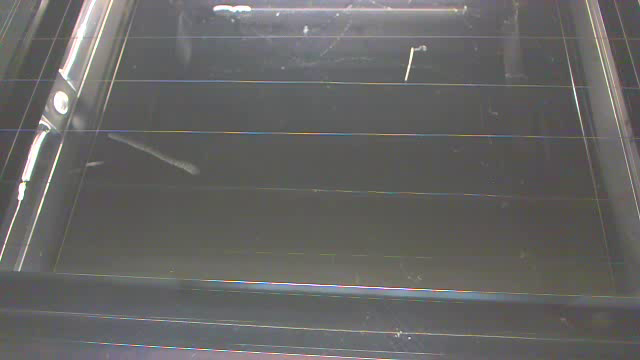alpha: (107, 131, 202, 178), (403, 47, 416, 85), (212, 3, 252, 15)
